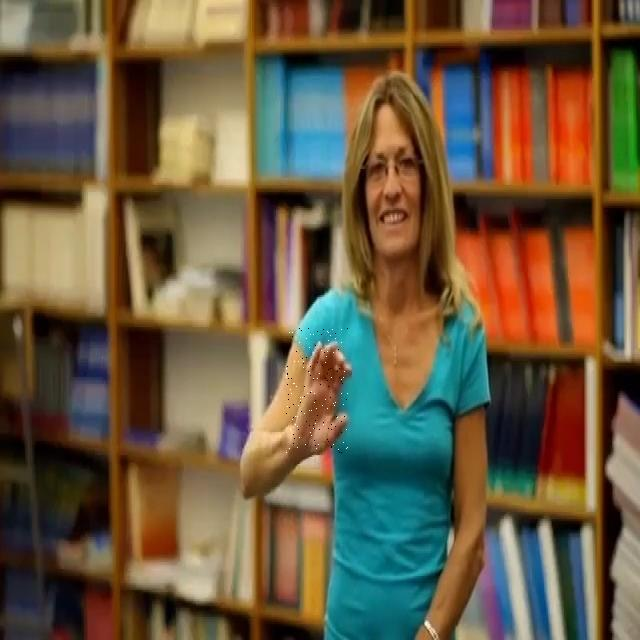pepper: (286, 326, 348, 454)
